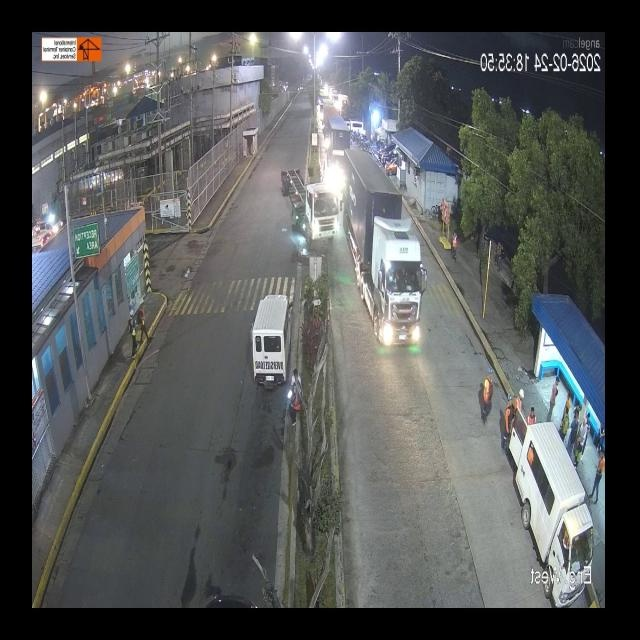car: (507, 411, 587, 597), (249, 286, 292, 386)
truck: (341, 158, 423, 340), (282, 168, 334, 245), (288, 115, 324, 189)
